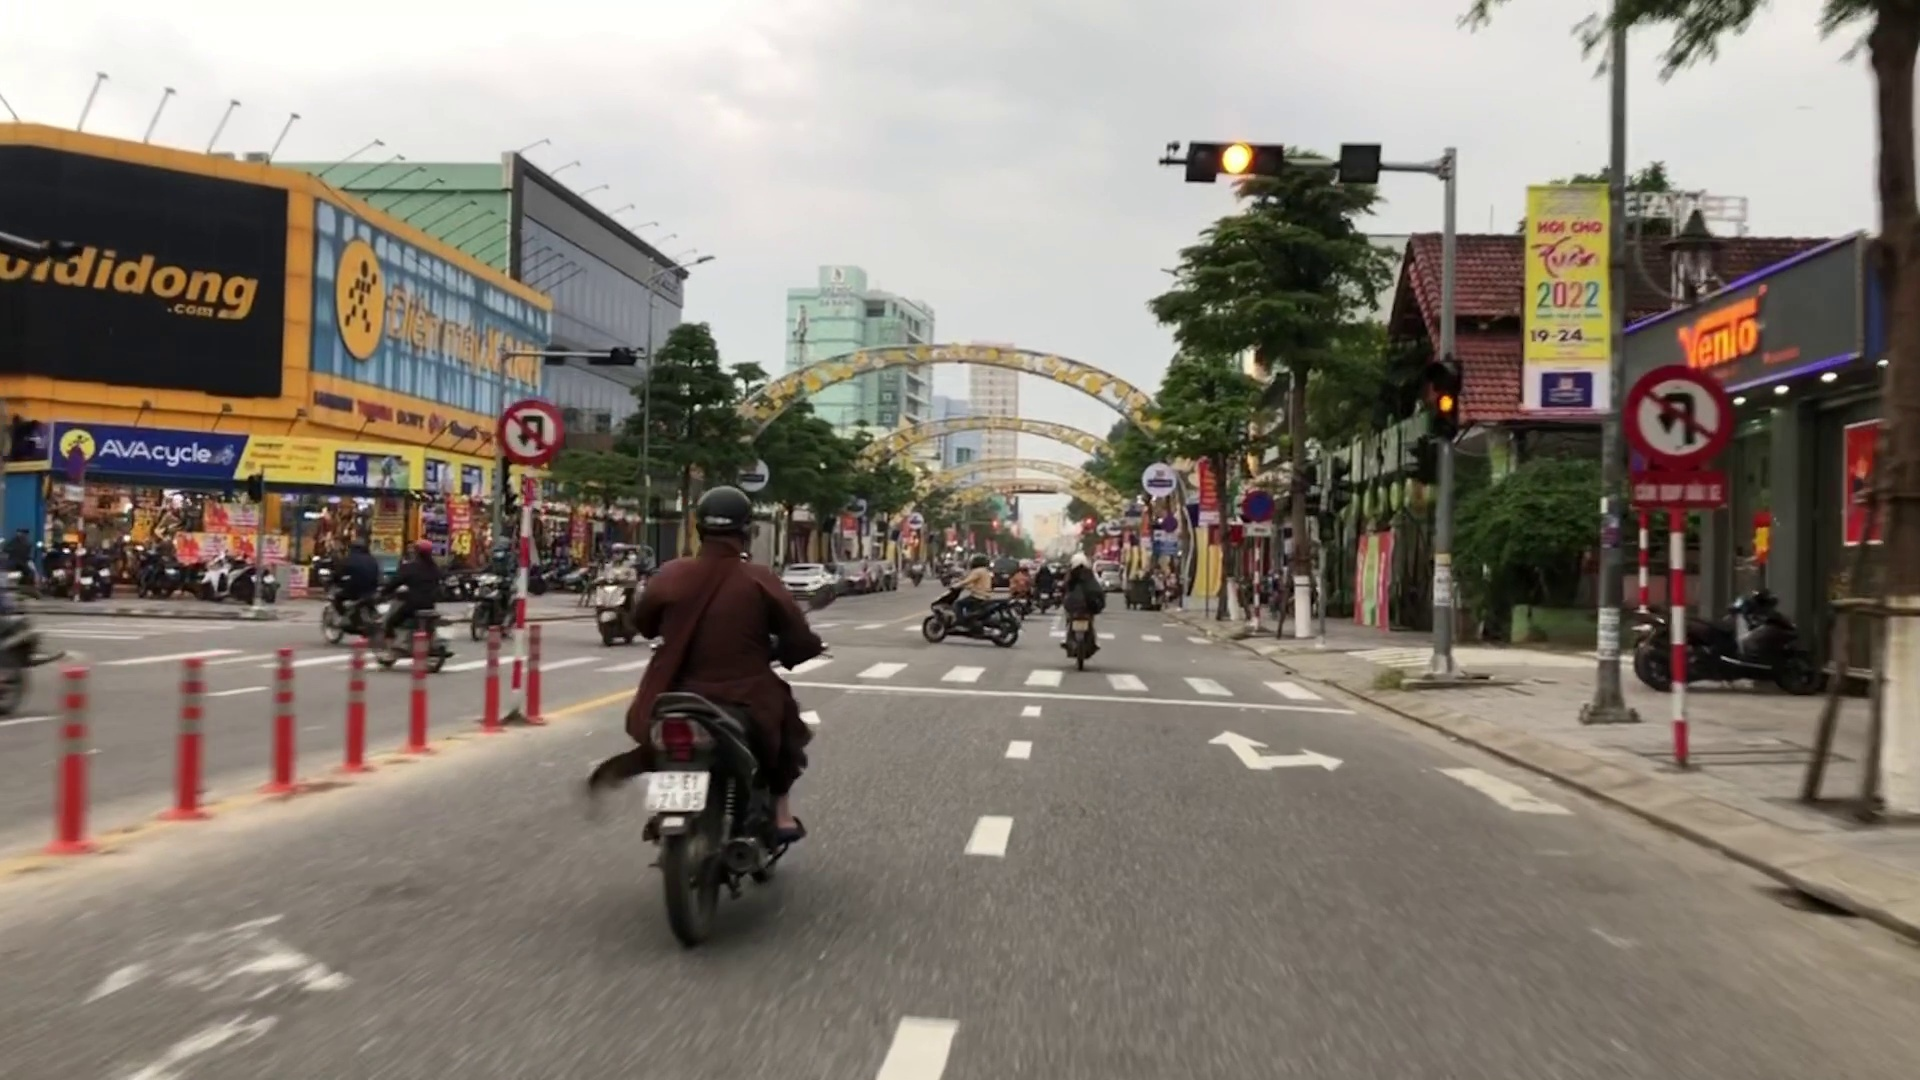Bien khac: (1621, 367, 1731, 467), (496, 397, 564, 467)
Cam do xe: (1240, 487, 1273, 525)
